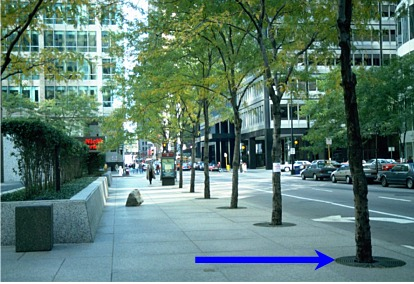Tree: (162, 1, 265, 213), (322, 1, 398, 277), (247, 1, 312, 237)
